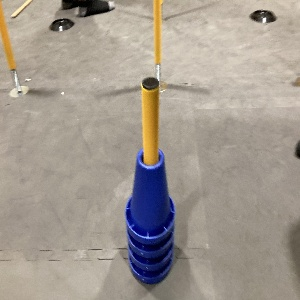Blue_4: (125, 147, 175, 283)
